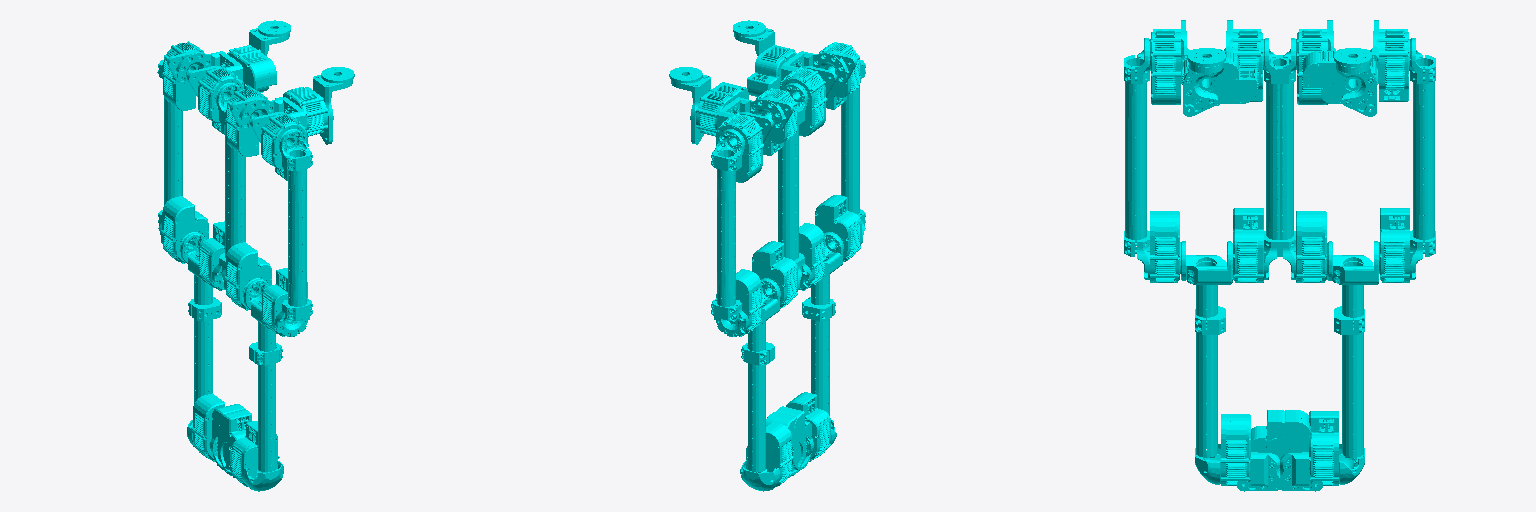
robot.urdf — Florence:
<robot name="Florence">
    ## WORLD
    <link name="World">
    </link>

    ## BASE LINK
    <link name="FloBase">
        <inertial>
            <origin xyz="0.0066 -0.0002 0.0545" rpy="0 0 0"/>
            <mass value="18.3700"/>
            <inertia ixx="0.1768"  ixy="-0.0010"  ixz="0.0231" iyy="0.1913" iyz="0" izz="0.2864" />
        </inertial>
        <visual>
            <origin xyz="0 0 0" rpy="0 0 0" />
            <geometry>
                <mesh filename="Base_rem.stl" />
            </geometry>
            <material name="Cyan">
                <color rgba="0 1.0 1.0 1.0"/>
            </material>
        </visual>

        #collision body base
        <collision>
            <origin xyz="0 0 0" rpy="0 0 0" />
            <geometry>
                <cylinder radius="0.301" length="0.038"/>
            </geometry>
        </collision>
        #collision body motor left
        <collision>
            <origin xyz="0.1680 0.0970 -0.0430" rpy="0 0 0.5236" />
            <geometry>
                <box size="0.1110 0.0740 0.0440"/>
            </geometry>
        </collision>
        #collision body motor right
        <collision>
            <origin xyz="0.1680 -0.0970 -0.0430" rpy="0 0 -0.5236" />
            <geometry>
                <box size="0.1110 0.0740 0.0440"/>
            </geometry>
        </collision>
    </link>

    <joint name="FloBaseJoint" type="fixed">
    <!--joint name="FloBaseJoint" type="fixed"--> #if used in matlab, floating joint is not valid (uncomment the fixed and comment out the floating specifier)
        <origin xyz="0 0 0.6624" rpy="0 0 0"/> #Optional
        <parent link="World"/> #Required
        <child link="FloBase"/> #Required
        <!--axis .... /-->
    </joint>

    ## LINK 1:
    # left
    <link name="Link1L">
        <inertial>
            <origin xyz="-0.0490 0.0102 0.0914" rpy="0 0 0"/>
            <mass value="0.7600"/>
            <inertia ixx="0.9643E-3"  ixy="9.6590e-05"  ixz="2.2060e-04" iyy="8.5310e-04" iyz="-1.3100e-05" izz="8.2910e-04" />
        </inertial>
        <visual>
            <origin xyz="0 0 0" rpy="0 0 0" />
            <geometry>
                <mesh filename="Link1L_rem.stl" />
            </geometry>
            <material name="Cyan">
                <color rgba="0 1.0 1.0 1.0"/>
            </material>
        </visual>

        #collision body holder
        <!--collision>
            <origin xyz="-0.0380 -0.0350 0.0451" rpy="0 0 0" />
            <geometry>
                <box size="1.55e-05	 4e-05  0.000105"/>
            </geometry>
        </collision-->
        #collision body motor
        <collision>
            <origin xyz="-0.0595    0.0185    0.1001" rpy="0 0 0" />
            <geometry>
                <box size="0.0440 0.1110 0.0740"/>
            </geometry>
        </collision>
    </link>

    <joint name="LefHipYaw" type="revolute">
        <origin xyz="0.1841 0.1063 -0.0189" rpy="3.1416 0 0"/>
        <parent link="FloBase"/>
        <child link="Link1L"/>
        <axis xyz="0 0 1" />
        <limit lower="-1.5708" upper="1.5708" effort="150" velocity="1.5"/>
    </joint>

    # right
    <link name="Link1R">
        <inertial>
            <origin xyz="-0.0490 0.0102 0.0914" rpy="0 0 0"/>
            <mass value="0.7600"/>
            <inertia ixx="9.6430e-04"  ixy="-5.4240e-05"  ixz="2.2610e-05" iyy="8.5310e-04" iyz="8.5980e-05" izz="8.2910e-04" />
        </inertial>
        <visual>
            <origin xyz="0 0 0" rpy="0 0 0" />
            <geometry>
                <mesh filename="Link1R_rem.stl" />
            </geometry>
            <material name="Cyan">
                <color rgba="0 1.0 1.0 1.0"/>
            </material>
        </visual>

        #collision body holder
        <!--collision>
           <origin xyz="-0.0380   -0.0250    0.0451" rpy="0 0 0" />
            <geometry>
                <box size="0.0155 0.0400 0.1050"/>
            </geometry>
        </collision-->
        #collision body motor
        <collision>
            <origin xyz="-0.0595   -0.0185    0.1001" rpy="0 0 0" />
            <geometry>
                <box size="0.0440 0.1110 0.0740"/>
            </geometry>
        </collision>
    </link>

    <joint name="RigHipYaw" type="revolute">
        <origin xyz="0.1841 -0.1063 -0.0189" rpy="3.1416 0 0"/>
        <parent link="FloBase"/>
        <child link="Link1R"/>
        <axis xyz="0 0 1" />
        <limit lower="-1.5708" upper="1.5708" effort="150" velocity="1.5"/>
    </joint>


    ## LINK 2:
    # left
    <link name="Link2L">
        <inertial>
            <origin xyz="0.0110 -0.0002 0.0951" rpy="0 0 0"/>
            <mass value="1.4279"/>
            <inertia ixx="0.0051"  ixy="0"  ixz="-0.0001" iyy="0.0017" iyz="0.0001" izz="0.0052" />
        </inertial>
        <visual>
            <origin xyz="0 0 0" rpy="0 0 0" />
            <geometry>
                <mesh filename="Link2_rem.stl" />
            </geometry>
            <material name="Cyan">
                <color rgba="0 1.0 1.0 1.0"/>
            </material>
        </visual>

        #collision body motor 1
        <collision>
           <origin xyz="0.0185 -0.0595 0.1001" rpy="0 0 0" />
            <geometry>
                <box size="0.1110 0.0440 0.0740"/>
            </geometry>
        </collision>
        #collision body motor 2
        <collision>
            <origin xyz="0.0185 0.0590 0.1001" rpy="0 0 0" />
            <geometry>
                <box size="0.1110 0.0440 0.0740"/>
            </geometry>
        </collision>
        #collision body holder
        <collision>
            <origin xyz="-0.0050 0 0.0975" rpy="0 0 0" />
            <geometry>
                <box size="0.0600 0.0750 0.1050"/>
            </geometry>
        </collision>
    </link>

    <joint name="LefHipRoll" type="revolute">
        <origin xyz="-0.0375 0 0.1001" rpy="0 -1.5708 0"/>
        <parent link="Link1L"/>
        <child link="Link2L"/>
        <axis xyz="0 0 1" />
        <limit lower="-1.5708" upper="1.5708" effort="150" velocity="1.5"/>
    </joint>

    # right
    <link name="Link2R">
        <inertial>
            <origin xyz="0.0110 -0.0002 0.0951" rpy="0 0 0"/>
            <mass value="1.4279"/>
            <inertia ixx="0.0051"  ixy="0"  ixz="-0.0001" iyy="0.0017" iyz="0.0001" izz="0.0052" />
        </inertial>
        <visual>
            <origin xyz="0 0 0" rpy="0 0 0" />
            <geometry>
                <mesh filename="Link2_rem.stl" />
            </geometry>
            <material name="Cyan">
                <color rgba="0 1.0 1.0 1.0"/>
            </material>
        </visual>

        #collision body motor 1
        <collision>
           <origin xyz="0.0185 -0.0595 0.1001" rpy="0 0 0" />
            <geometry>
                <box size="0.1110 0.0440 0.0740"/>
            </geometry>
        </collision>
        #collision body motor 2
        <collision>
            <origin xyz="0.0185 0.0590 0.1001" rpy="0 0 0" />
            <geometry>
                <box size="0.1110 0.0440 0.0740"/>
            </geometry>
        </collision>
        #collision body holder
        <collision>
            <origin xyz="-0.0050 0 0.0975" rpy="0 0 0" />
            <geometry>
                <box size="0.0600 0.0750 0.1050"/>
            </geometry>
        </collision>
    </link>

    <joint name="RigHipRoll" type="revolute">
        <origin xyz="-0.0375 0 0.1001" rpy="0 -1.5708 0"/>
        <parent link="Link1R"/>
        <child link="Link2R"/>
        <axis xyz="0 0 1" />
        <limit lower="-1.5708" upper="1.5708" effort="150" velocity="1.5"/>
    </joint>

    ## LINK 3:
    # left
    <link name="Link3L">
        <inertial>
            <origin xyz="0.2578 0 0" rpy="0 0 0"/>
            <mass value="1.7659"/>
            <inertia ixx="0.0109"  ixy="0"  ixz="0" iyy="0.0307" iyz="0" izz="0.0209" />
        </inertial>
        <visual>
            <origin xyz="0 0 0" rpy="0 0 0" />
            <geometry>
                <mesh filename="Link3_rtbox_rem.stl" />
            </geometry>
            <material name="Cyan">
                <color rgba="0 1.0 1.0 1.0"/>
            </material>
        </visual>

        #collision body motor 1
        <collision>
           <origin xyz="0.3070 0 -0.0605" rpy="0 0 0" />
            <geometry>
                <box size="0.1110 0.0740 0.0440"/>
            </geometry>
        </collision>
        #collision body motor 2
        <collision>
           <origin xyz="0.3070 0 0.0605" rpy="0 0 0" />
            <geometry>
                <box size="0.1110 0.0740 0.0440"/>
            </geometry>
        </collision>
        #collision body rod 1
        <collision>
           <origin xyz="0.1625 0 -0.1026" rpy="0 0 0" />
            <geometry>
                <box size="0.3000 0.0480 0.0350"/>
            </geometry>
        </collision>
        #collision body rod 2
        <collision>
           <origin xyz="0.1625 0 0.1026" rpy="0 0 0" />
            <geometry>
                <box size="0.3000 0.0480 0.0350"/>
            </geometry>
        </collision>
    </link>

    <joint name="LefHipPitch" type="revolute">
        <origin xyz="0 0 0.1001" rpy="-1.5708 0 0"/>
        <parent link="Link2L"/>
        <child link="Link3L"/>
        <axis xyz="0 0 1" />
        <limit lower="-1.5708" upper="1.5708" effort="150" velocity="1.5"/>
    </joint>

    # right
    <link name="Link3R">
        <inertial>
            <origin xyz="0.2578 0 0" rpy="0 0 0"/>
            <mass value="1.7659"/>
            <inertia ixx="0.0109"  ixy="0"  ixz="0" iyy="0.0307" iyz="0" izz="0.0209" />
        </inertial>
        <visual>
            <origin xyz="0 0 0" rpy="0 0 0" />
            <geometry>
                <mesh filename="Link3_rtbox_rem.stl" />
            </geometry>
            <material name="Cyan">
                <color rgba="0 1.0 1.0 1.0"/>
            </material>
        </visual>

        #collision body motor 1
        <collision>
           <origin xyz="0.3070 0 -0.0605" rpy="0 0 0" />
            <geometry>
                <box size="0.1110 0.0740 0.0440"/>
            </geometry>
        </collision>
        #collision body motor 2
        <collision>
           <origin xyz="0.3070 0 0.0605" rpy="0 0 0" />
            <geometry>
                <box size="0.1110 0.0740 0.0440"/>
            </geometry>
        </collision>
        #collision body rod 1
        <collision>
           <origin xyz="0.1625 0 -0.1026" rpy="0 0 0" />
            <geometry>
                <box size="0.3000 0.0480 0.0350"/>
            </geometry>
        </collision>
        #collision body rod 2
        <collision>
           <origin xyz="0.1625 0 0.1026" rpy="0 0 0" />
            <geometry>
                <box size="0.3000 0.0480 0.0350"/>
            </geometry>
        </collision>
    </link>

    <joint name="RigHipPitch" type="revolute">
        <origin xyz="0 0 0.1001" rpy="-1.5708 0 0"/>
        <parent link="Link2R"/>
        <child link="Link3R"/>
        <axis xyz="0 0 1" />
        <limit lower="-1.5708" upper="1.5708" effort="150" velocity="1.5"/>
    </joint>


    ## LINK 4:
    # left
    <link name="Link4L">
        <inertial>
            <origin xyz="0.1945 0.0003 -0.0137" rpy="0 0 0"/>
            <mass value="1.0127"/>
            <inertia ixx="0.0010"  ixy="0.0001"  ixz="-0.0020" iyy="0.0222" iyz="0" izz="0.0218" />
        </inertial>
        <visual>
            <origin xyz="0 0 0" rpy="0 0 0" />
            <geometry>
                <mesh filename="Link4L_rtbox_rem.stl" />
            </geometry>
            <material name="Cyan">
                <color rgba="0 1.0 1.0 1.0"/>
            </material>
        </visual>

        #collision body motor
        <collision>
           <origin xyz="0.3065 0 -0.0420" rpy="0 0 0" />
            <geometry>
                <box size="0.1110 0.0740 0.0440"/>
            </geometry>
        </collision>

        #collision body rod
        <collision>
           <origin xyz="0.1968 0 -0.0010" rpy="0 0 0" />
            <geometry>
                <box size="0.3225 0.0480 0.0370"/>
            </geometry>
        </collision>

        #collision body holder
        <collision>
           <origin xyz="0.0055 0 0" rpy="0 0 0" />
            <geometry>
                <box size="0.0600 0.0480 0.0749"/>
            </geometry>
        </collision>

    </link>

    <joint name="LefKneePitch" type="revolute">
        <origin xyz="0.3255 0 0" rpy="0 0 0"/>
        <parent link="Link3L"/>
        <child link="Link4L"/>
        <axis xyz="0 0 1" />
        <limit lower="-1.5708" upper="1.5708" effort="150" velocity="1.5"/>
    </joint>

    # right
    <link name="Link4R">
        <inertial>
            <origin xyz="0.1945 0.0003 -0.0137" rpy="0 0 0"/>
            <mass value="1.0127"/>
            <inertia ixx="0.0010"  ixy="-0.0001"  ixz="0.0020" iyy="0.0222" iyz="0" izz="0.0218" />
        </inertial>
        <visual>
            <origin xyz="0 0 0" rpy="0 0 0" />
            <geometry>
                <mesh filename="Link4R_rtbox_rem.stl" />
            </geometry>
            <material name="Cyan">
                <color rgba="0 1.0 1.0 1.0"/>
            </material>
        </visual>

        #collision body motor
        <collision>
           <origin xyz="0.3065 0 0.0420" rpy="0 0 0" />
            <geometry>
                <box size="0.1110 0.0740 0.0440"/>
            </geometry>
        </collision>

        #collision body rod
        <collision>
           <origin xyz="0.1968 0 -0.0010" rpy="0 0 0" />
            <geometry>
                <box size="0.3225 0.0480 0.0370"/>
            </geometry>
        </collision>

        #collision body holder
        <collision>
           <origin xyz="0.0055 0 0" rpy="0 0 0" />
            <geometry>
                <box size="0.0600 0.0480 0.0749"/>
            </geometry>
        </collision>

    </link>

    <joint name="RigKneePitch" type="revolute">
        <origin xyz="0.3255 0 0" rpy="0 0 0"/>
        <parent link="Link3R"/>
        <child link="Link4R"/>
        <axis xyz="0 0 1" />
        <limit lower="-1.5708" upper="1.5708" effort="150" velocity="1.5"/>
    </joint>

    ## LINK 5:
    # left
    <link name="Link5L">
        <inertial>
            <origin xyz="-0.0091 0.0112 0.0754" rpy="0 0 0"/>
            <mass value="0.5637"/>
            <inertia ixx="0.4810E-3"  ixy="-0.0306E-3"  ixz="0.0132E-3" iyy="0.7391E-3" iyz="-0.0105E-3" izz="0.4231E-3" />
        </inertial>
        <visual>
            <origin xyz="0 0 0" rpy="0 0 0" />
            <geometry>
                <mesh filename="Link5L_rem.stl" />
            </geometry>
            <material name="Cyan">
                <color rgba="0 1.0 1.0 1.0"/>
            </material>
        </visual>

        #collision body motor
        <collision>
           <origin xyz="-0.0185 0.0005 0.0990" rpy="0 0 0" />
            <geometry>
                <box size="0.1110 0.0440 0.0740"/>
            </geometry>
        </collision>

        #collision body holder
        <collision>
           <origin xyz="0.0050 0.0297 0.0965" rpy="0 0 0" />
            <geometry>
                <box size="0.0600 0.0155 0.1050"/>
            </geometry>
        </collision>

    </link>

    <joint name="LefAnklePitch" type="revolute">
        <origin xyz="0.3250 0 0.0200" rpy="0 0 0"/>
        <parent link="Link4L"/>
        <child link="Link5L"/>
        <axis xyz="0 0 1" />
        <limit lower="-1.5708" upper="1.5708" effort="150" velocity="1.5"/>
    </joint>

    # right
    <link name="Link5R">
        <inertial>
            <origin xyz="-0.0091 -0.0112 0.0777" rpy="0 0 0"/>
            <mass value="0.5637"/>
            <inertia ixx="0.5050E-3"  ixy="0.0306E-3"  ixz="0.0676E-3" iyy="0.7631E-3" iyz="0.0061E-3" izz="0.4231E-3" />
        </inertial>
        <visual>
            <origin xyz="0 0 0" rpy="0 0 0" />
            <geometry>
                <mesh filename="Link5R_rem.stl" />
            </geometry>
            <material name="Cyan">
                <color rgba="0 1.0 1.0 1.0"/>
            </material>
        </visual>

        #collision body motor
        <collision>
           <origin xyz="-0.0185 -0.0010 0.0990" rpy="0 0 0" />
            <geometry>
                <box size="0.1110 0.0440 0.0740"/>
            </geometry>
        </collision>

        #collision body holder
        <collision>
           <origin xyz="0.0050 -0.0297 0.0965" rpy="0 0 0" />
            <geometry>
                <box size="0.0600 0.0155 0.1050"/>
            </geometry>
        </collision>

    </link>

    <joint name="RigAnklePitch" type="revolute">
        <origin xyz="0.3250 0 -0.0200" rpy="3.1416 0 0"/>
        <parent link="Link4R"/>
        <child link="Link5R"/>
        <axis xyz="0 0 1" />
        <limit lower="-1.5708" upper="1.5708" effort="150" velocity="1.5"/>
    </joint>


    ## LINK 6:
    # left
    <link name="Link6L">
        <inertial>
            <origin xyz="0.0712 0.0002 0.0266" rpy="0 0 0"/>
            <mass value="1.2731"/>
            <inertia ixx="0.0083"  ixy="0"  ixz="0.0003" iyy="0.0061" iyz="0" izz="0.0035" />
        </inertial>
        <visual>
            <origin xyz="0 0 0" rpy="0 0 0" />
            <geometry>
                <mesh filename="Link6_rem.stl" />
            </geometry>
            <material name="Cyan">
                <color rgba="0 1.0 1.0 1.0"/>
            </material>
        </visual>

        #collision body foot
        <collision>
           <origin xyz="0.1008 0 0.0330" rpy="0 0 0" />
            <geometry>
                <box size="0.0367 0.1490 0.1670"/>
            </geometry>
        </collision>
    </link>

    <joint name="LefAnkleRoll" type="revolute">
        <origin xyz="0 0.0230 0.1001" rpy="1.5708 0 0"/>
        <parent link="Link5L"/>
        <child link="Link6L"/>
        <axis xyz="0 0 1" />
        <limit lower="-1.5708" upper="1.5708" effort="150" velocity="1.5"/>
    </joint>

    # right
    <link name="Link6R">
        <inertial>
            <origin xyz="0.0712 -0.0002 0.0266" rpy="0 0 0"/>
            <mass value="1.2731"/>
            <inertia ixx="0.0083"  ixy="0"  ixz="0.0003" iyy="0.0061" iyz="0" izz="0.0035" />
        </inertial>
        <visual>
            <origin xyz="0 0 0" rpy="0 0 0" />
            <geometry>
                <mesh filename="Link6_rem.stl" />
            </geometry>
            <material name="Cyan">
                <color rgba="0 1.0 1.0 1.0"/>
            </material>
        </visual>

        #collision body foot
        <collision>
           <origin xyz="0.1008 0 0.0330" rpy="0 0 0" />
            <geometry>
                <box size="0.0367 0.1490 0.1670"/>
            </geometry>
        </collision>
    </link>

    <joint name="RigAnkleRoll" type="revolute">
        <origin xyz="0 -0.0230 0.1001" rpy="-1.5708 0 0"/>
        <parent link="Link5R"/>
        <child link="Link6R"/>
        <axis xyz="0 0 1" />
        <limit lower="-1.5708" upper="1.5708" effort="150" velocity="1.5"/>
    </joint>

    ## END EFFECTOR:
    # left
    <link name="EE_L">
        <inertial>
            <origin xyz="0 0 0" rpy="0 0 0"/>
            <mass value="0"/>
            <inertia ixx="0"  ixy="0"  ixz="0" iyy="0" iyz="0" izz="0" />
        </inertial>
    </link>

    <joint name="EndEffectorL" type="fixed">
        <origin xyz="0.1192 0 0.0331" rpy="0 1.5708 3.1416"/>
        <parent link="Link6L"/>
        <child link="EE_L"/>
        <axis xyz="0 0 1" />
    </joint>

    # right
    <link name="EE_R">
        <inertial>
            <origin xyz="0 0 0" rpy="0 0 0"/>
            <mass value="0"/>
            <inertia ixx="0"  ixy="0"  ixz="0" iyy="0" iyz="0" izz="0" />
        </inertial>
    </link>

    <joint name="EndEffectorR" type="fixed">
        <origin xyz="0.1192 0 0.0331" rpy="0 1.5708 3.1416"/>
        <parent link="Link6R"/>
        <child link="EE_R"/>
        <axis xyz="0 0 1" />
    </joint>

</robot>

--- What the picture shows (computed from the rendered views, not written in the file) ---
3 views of the same robot in one strip: view 1: azimuth 30°, elevation 25°; view 2: azimuth 150°, elevation 25°; view 3: azimuth 270°, elevation 25° (orthographic).
Model Florence with 16 links and 15 joints (12 revolute, 3 fixed), rooted at World, posed all joints at 0.
Links seen in each view (by area): view 1: Link3R, Link3L, Link4R, Link4L, Link2R, Link2L, Link1R, Link1L, Link5L, Link5R; view 2: Link3L, Link3R, Link4L, Link4R, Link2L, Link2R, Link1L, Link1R, Link5L, Link5R; view 3: Link3L, Link3R, Link4L, Link4R, Link2R, Link2L, Link1R, Link1L, Link5R, Link5L.
Link boxes in pixels (left/top/right/bottom): Link3R: left=222, top=106, right=312, bottom=336; Link3L: left=157, top=60, right=241, bottom=290; Link4R: left=232, top=277, right=283, bottom=491; Link4L: left=179, top=231, right=224, bottom=461; Link2R: left=225, top=88, right=308, bottom=180; Link2L: left=162, top=41, right=243, bottom=134; Link1R: left=275, top=67, right=354, bottom=144; Link1L: left=227, top=20, right=290, bottom=92; Link5L: left=209, top=409, right=251, bottom=477; Link5R: left=212, top=404, right=244, bottom=470; Link3L: left=711, top=106, right=801, bottom=336; Link3R: left=782, top=60, right=865, bottom=290; Link4L: left=740, top=277, right=793, bottom=491; Link4R: left=786, top=231, right=844, bottom=461; Link2L: left=716, top=88, right=796, bottom=182; Link2R: left=780, top=42, right=860, bottom=136; Link1L: left=669, top=67, right=748, bottom=144; Link1R: left=733, top=20, right=796, bottom=96; Link5L: left=776, top=406, right=812, bottom=472; Link5R: left=766, top=412, right=814, bottom=477; Link3L: left=1271, top=38, right=1435, bottom=282; Link3R: left=1124, top=38, right=1288, bottom=282; Link4L: left=1309, top=241, right=1379, bottom=485; Link4R: left=1180, top=241, right=1250, bottom=485; Link2R: left=1151, top=20, right=1262, bottom=104; Link2L: left=1297, top=20, right=1408, bottom=104; Link1R: left=1182, top=48, right=1256, bottom=116; Link1L: left=1303, top=48, right=1377, bottom=116; Link5R: left=1251, top=410, right=1322, bottom=491; Link5L: left=1237, top=410, right=1308, bottom=491.
Bounding box of the posed robot: 0.2155 × 0.4527 × 0.7491 m (x, y, z).
Meshes: 10 distinct files referenced, 10 mesh visuals loaded (8 binary STL); not drawn: 3 (reference not matched to a file when rendering).
